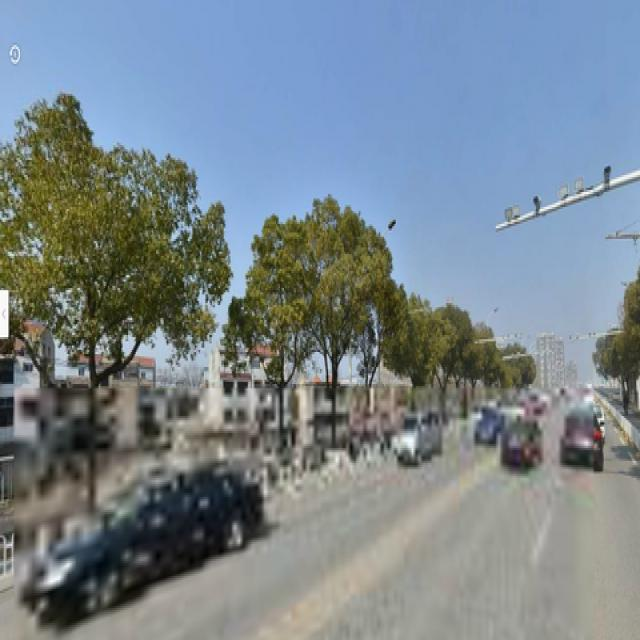cinn: (21, 115, 167, 499), (312, 218, 365, 454), (259, 222, 297, 461)
